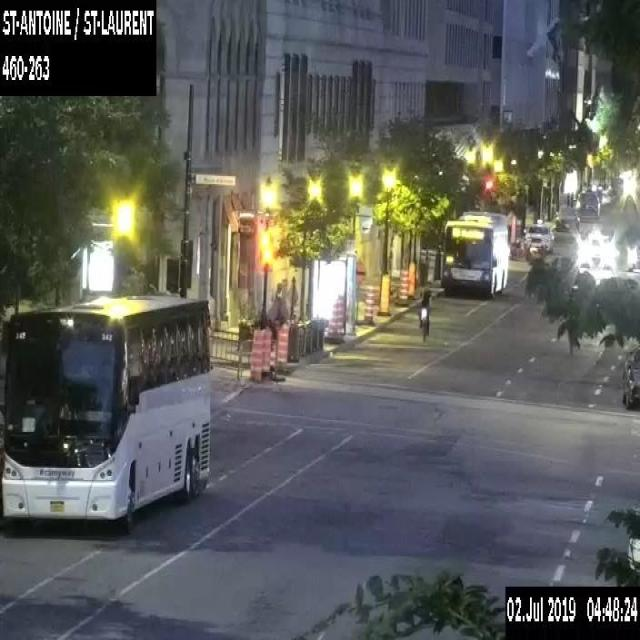bus: (0, 292, 214, 535), (440, 208, 509, 296)
construction: (266, 295, 288, 381), (324, 294, 342, 342), (249, 326, 264, 383), (276, 322, 290, 372), (393, 266, 409, 305), (261, 326, 272, 378), (378, 272, 390, 315), (362, 283, 374, 324), (407, 260, 416, 299)
cyclist: (417, 285, 431, 343)
vehicle: (577, 229, 616, 269), (522, 217, 554, 252), (621, 347, 639, 409), (575, 189, 600, 220), (555, 204, 579, 231), (625, 241, 639, 272), (626, 536, 639, 569)
